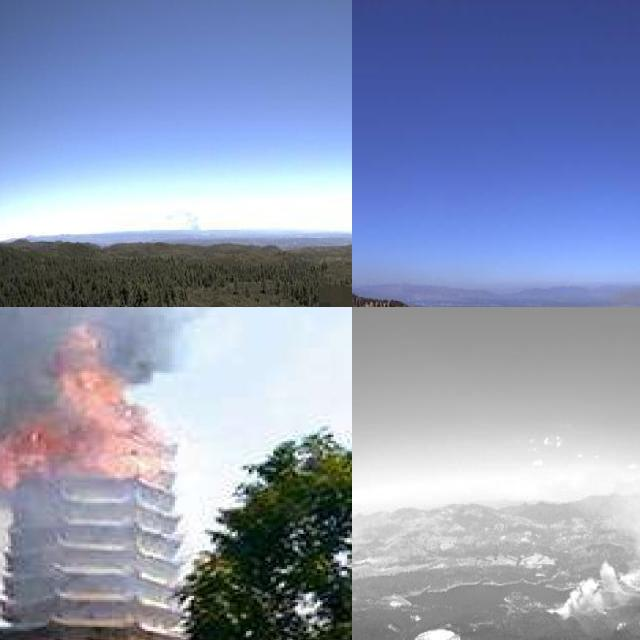fire: (0, 325, 177, 486)
smoke: (0, 307, 183, 439), (543, 477, 640, 630), (167, 208, 203, 236)
